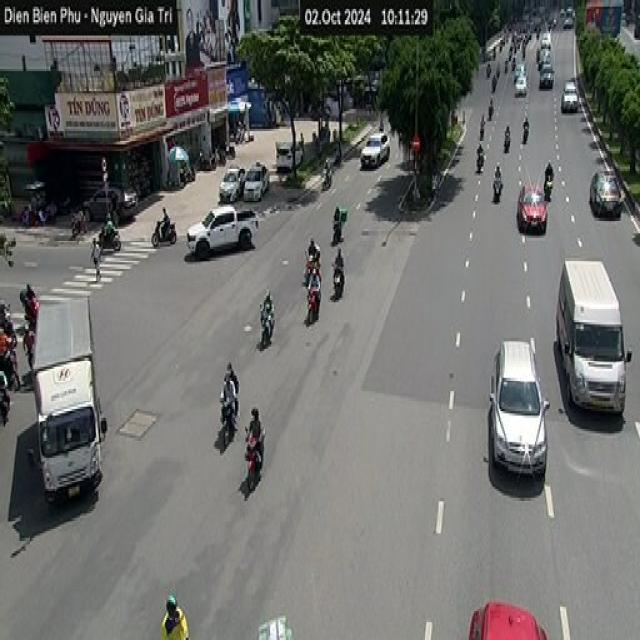car: (555, 255, 631, 416), (488, 336, 550, 478), (468, 600, 548, 638), (516, 182, 548, 234), (588, 169, 624, 215), (360, 131, 390, 167)
motorcycle: (244, 427, 265, 491), (218, 393, 238, 449), (152, 216, 176, 247), (331, 260, 344, 298)
person: (160, 593, 189, 638), (244, 407, 265, 469), (258, 289, 274, 347), (90, 236, 101, 282), (158, 206, 170, 238), (492, 162, 502, 200)
truck: (30, 291, 106, 505)
